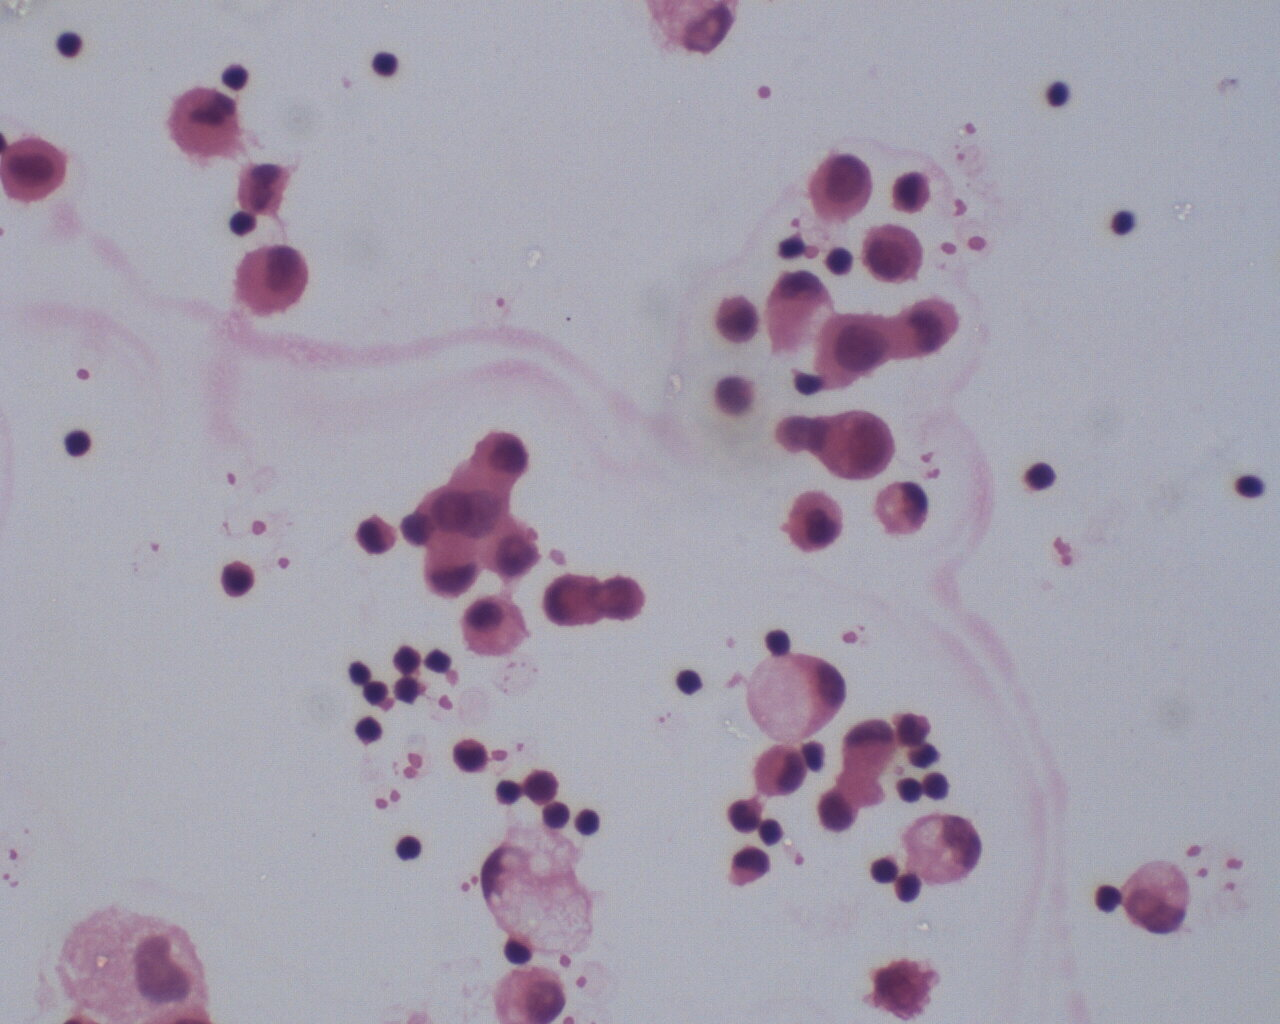ab: (817, 308, 894, 386), (824, 408, 897, 483), (807, 152, 878, 222), (587, 571, 647, 626), (891, 170, 934, 217)
histo: (743, 652, 854, 744), (902, 809, 987, 888)
lymph: (217, 553, 261, 602), (451, 735, 487, 775), (1024, 461, 1058, 495), (573, 806, 601, 836), (676, 669, 704, 698)
meso: (233, 245, 310, 316), (1, 132, 70, 207), (457, 594, 534, 660), (861, 223, 929, 288), (462, 426, 530, 491), (788, 488, 845, 555)
